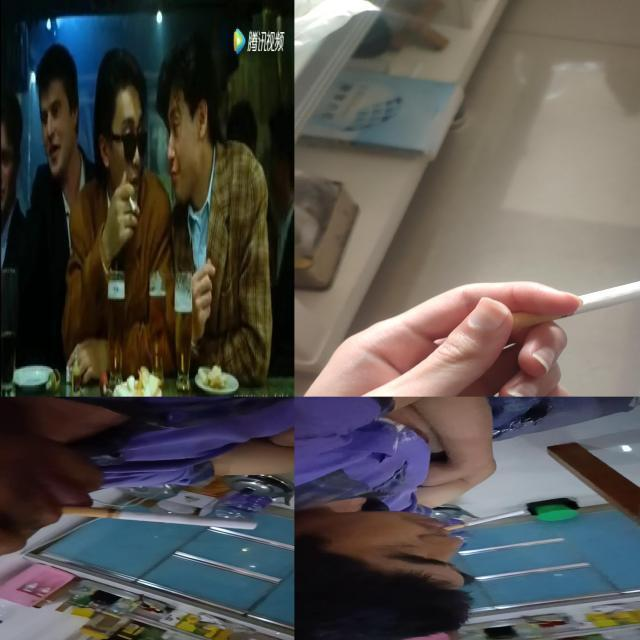rokok: (500, 268, 640, 332), (62, 506, 258, 530), (442, 510, 526, 530), (128, 196, 136, 216)
